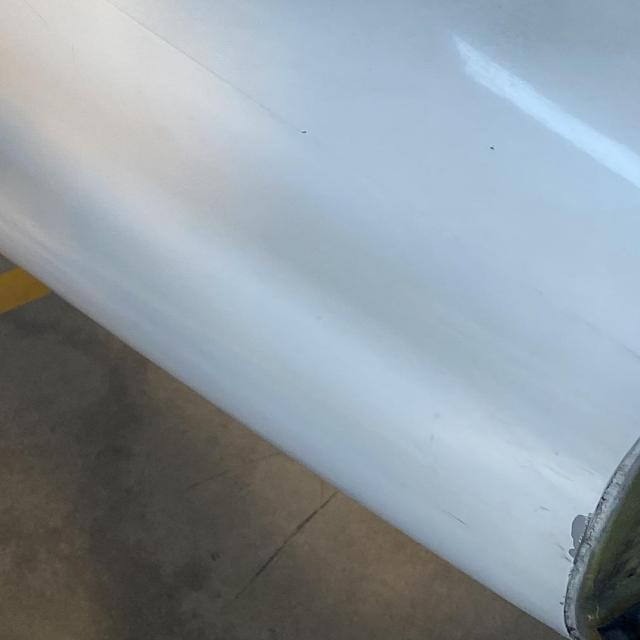Paint-off: (567, 515, 590, 563)
